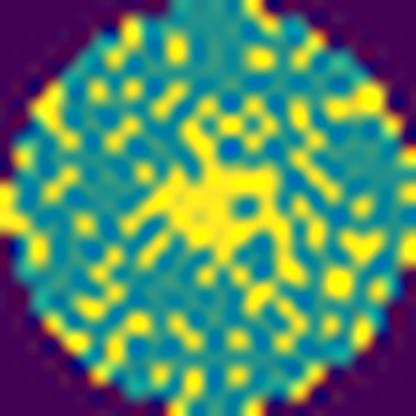Center: (124, 96, 312, 295)
